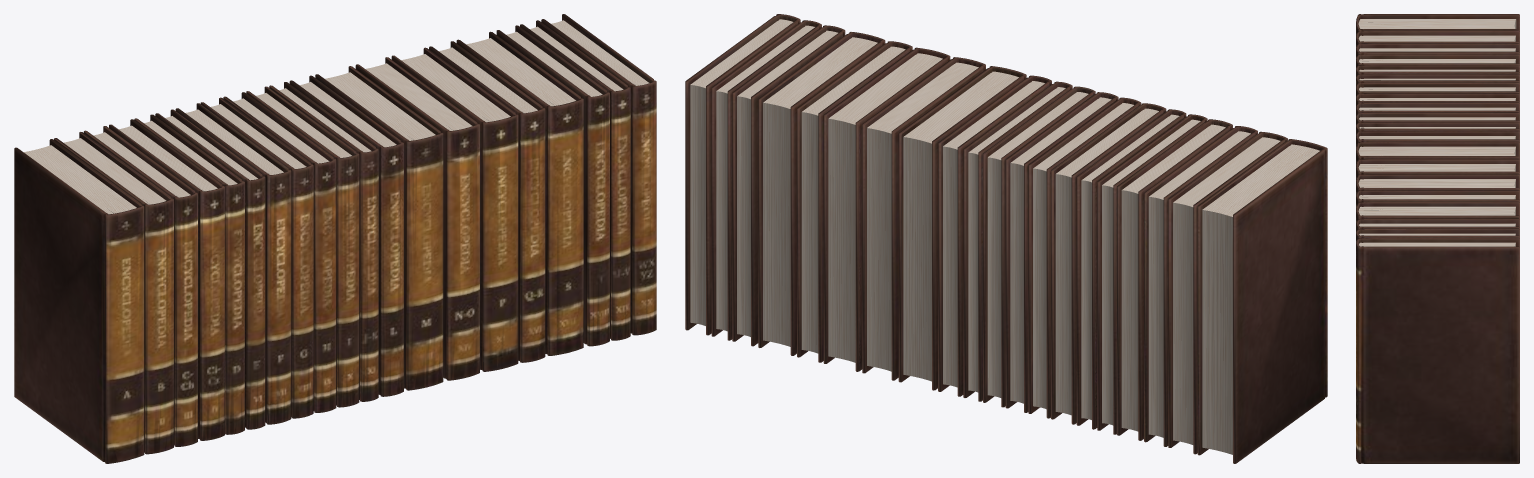
Rendered from book_encyclopedia_set_01.glb.
3 views of the same model, side by side, from view 1: azimuth 30°, elevation 25°; view 2: azimuth 150°, elevation 25°; view 3: azimuth 270°, elevation 25° (orthographic). The views are drawn at different scales.
Visible parts, largest first — view 1: book_encyclopedia_set_01_book01, book_encyclopedia_set_01_book13, book_encyclopedia_set_01_book15, book_encyclopedia_set_01_book17, book_encyclopedia_set_01_book14, book_encyclopedia_set_01_book02, book_encyclopedia_set_01_book16, book_encyclopedia_set_01_book04, book_encyclopedia_set_01_book18, book_encyclopedia_set_01_book20, book_encyclopedia_set_01_book07, book_encyclopedia_set_01_book12 (+8 smaller); view 2: book_encyclopedia_set_01_book01, book_encyclopedia_set_01_book13, book_encyclopedia_set_01_book15, book_encyclopedia_set_01_book17, book_encyclopedia_set_01_book14, book_encyclopedia_set_01_book02, book_encyclopedia_set_01_book04, book_encyclopedia_set_01_book16, book_encyclopedia_set_01_book20, book_encyclopedia_set_01_book18, book_encyclopedia_set_01_book07, book_encyclopedia_set_01_book12 (+8 smaller); view 3: book_encyclopedia_set_01_book20, book_encyclopedia_set_01_book13, book_encyclopedia_set_01_book01, book_encyclopedia_set_01_book17, book_encyclopedia_set_01_book15, book_encyclopedia_set_01_book14, book_encyclopedia_set_01_book02, book_encyclopedia_set_01_book16, book_encyclopedia_set_01_book03, book_encyclopedia_set_01_book12, book_encyclopedia_set_01_book04, book_encyclopedia_set_01_book07 (+8 smaller).
Part boxes in pixels (x1,y1,x2,y2): book_encyclopedia_set_01_book01: (14, 139, 144, 463); book_encyclopedia_set_01_book13: (315, 66, 443, 390); book_encyclopedia_set_01_book15: (391, 47, 518, 371); book_encyclopedia_set_01_book17: (456, 31, 583, 355); book_encyclopedia_set_01_book14: (355, 57, 479, 380); book_encyclopedia_set_01_book02: (54, 132, 173, 454); book_encyclopedia_set_01_book16: (429, 41, 545, 362); book_encyclopedia_set_01_book04: (109, 119, 224, 440); book_encyclopedia_set_01_book18: (496, 25, 609, 346); book_encyclopedia_set_01_book20: (541, 14, 656, 335); book_encyclopedia_set_01_book07: (175, 103, 291, 424); book_encyclopedia_set_01_book12: (289, 75, 403, 396); book_encyclopedia_set_01_book01: (1197, 139, 1327, 463); book_encyclopedia_set_01_book13: (898, 66, 1026, 390); book_encyclopedia_set_01_book15: (823, 47, 950, 371); book_encyclopedia_set_01_book17: (758, 32, 885, 355); book_encyclopedia_set_01_book14: (862, 57, 985, 380); book_encyclopedia_set_01_book02: (1168, 131, 1287, 454); book_encyclopedia_set_01_book04: (1117, 119, 1232, 440); book_encyclopedia_set_01_book16: (797, 41, 912, 362); book_encyclopedia_set_01_book20: (685, 14, 800, 335); book_encyclopedia_set_01_book18: (732, 25, 845, 346); book_encyclopedia_set_01_book07: (1051, 103, 1166, 424); book_encyclopedia_set_01_book12: (938, 75, 1051, 396); book_encyclopedia_set_01_book20: (1356, 238, 1519, 463); book_encyclopedia_set_01_book13: (1356, 142, 1519, 165); book_encyclopedia_set_01_book01: (1356, 14, 1519, 35); book_encyclopedia_set_01_book17: (1356, 202, 1519, 221); book_encyclopedia_set_01_book15: (1356, 174, 1519, 208); book_encyclopedia_set_01_book14: (1356, 159, 1519, 180); book_encyclopedia_set_01_book02: (1356, 30, 1519, 47); book_encyclopedia_set_01_book16: (1356, 190, 1519, 222); book_encyclopedia_set_01_book03: (1356, 43, 1519, 58); book_encyclopedia_set_01_book12: (1356, 131, 1519, 149); book_encyclopedia_set_01_book04: (1356, 54, 1519, 69); book_encyclopedia_set_01_book07: (1356, 82, 1519, 96).
Bounding box in the file's own units: 0.5513 × 0.2374 × 0.1631.
Materials: 2 (2 with a texture image).
